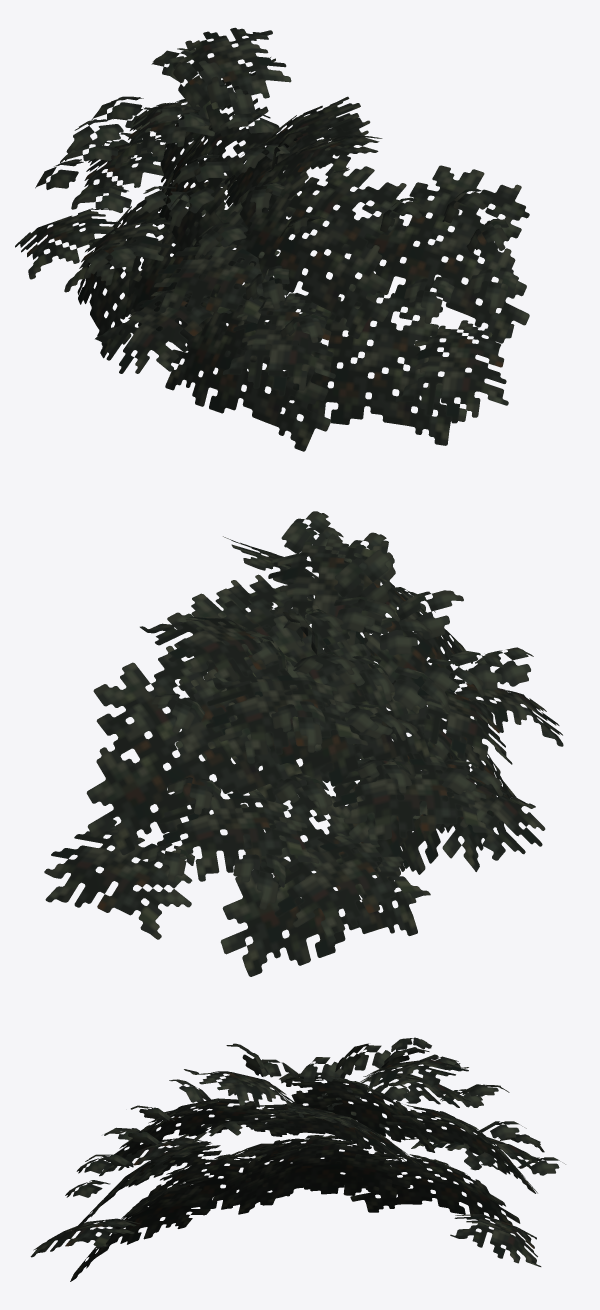
The model's file is EnvFldMD_Grass_M_B.FBX.
3 views of the same model, one above another, from view 1: azimuth 30°, elevation 25°; view 2: azimuth 150°, elevation 25°; view 3: azimuth 270°, elevation 25° (orthographic). The views are drawn at different scales.
Visible parts, largest first — view 1: EnvFldMD_Grass_M_B; view 2: EnvFldMD_Grass_M_B; view 3: EnvFldMD_Grass_M_B.
Part boxes in pixels (<box>): EnvFldMD_Grass_M_B: <box>15,27,529,451</box>; EnvFldMD_Grass_M_B: <box>44,511,563,976</box>; EnvFldMD_Grass_M_B: <box>30,1037,565,1281</box>.
Size of the model in its own units: 348 by 229 by 503.
Materials: 1 (1 with a texture image).
